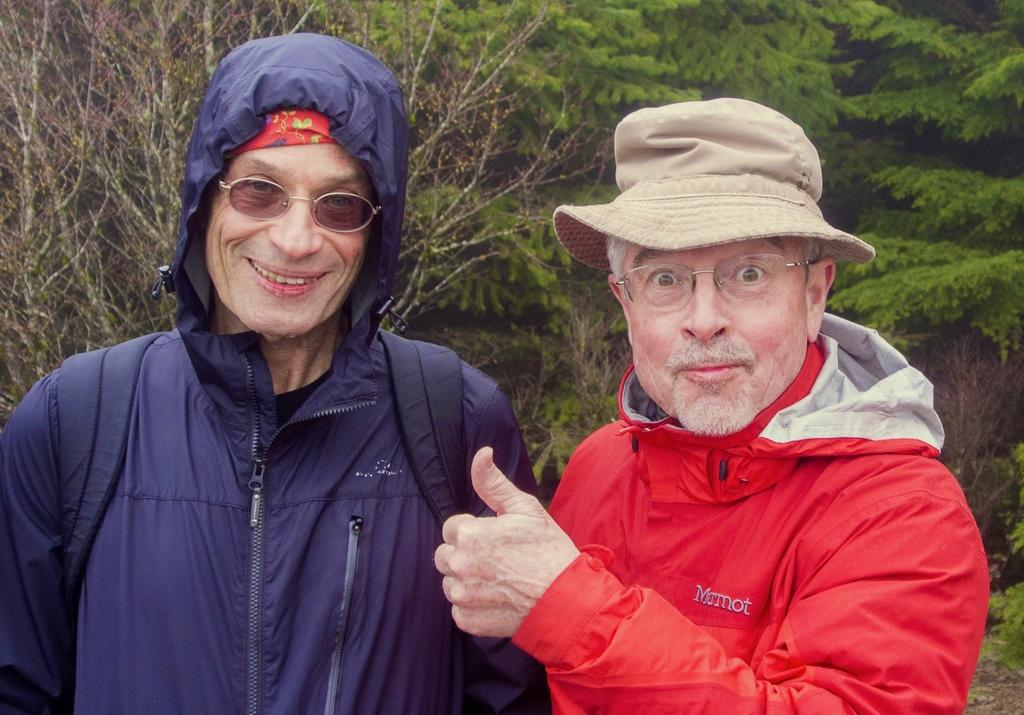Hat: (556, 95, 874, 268)
